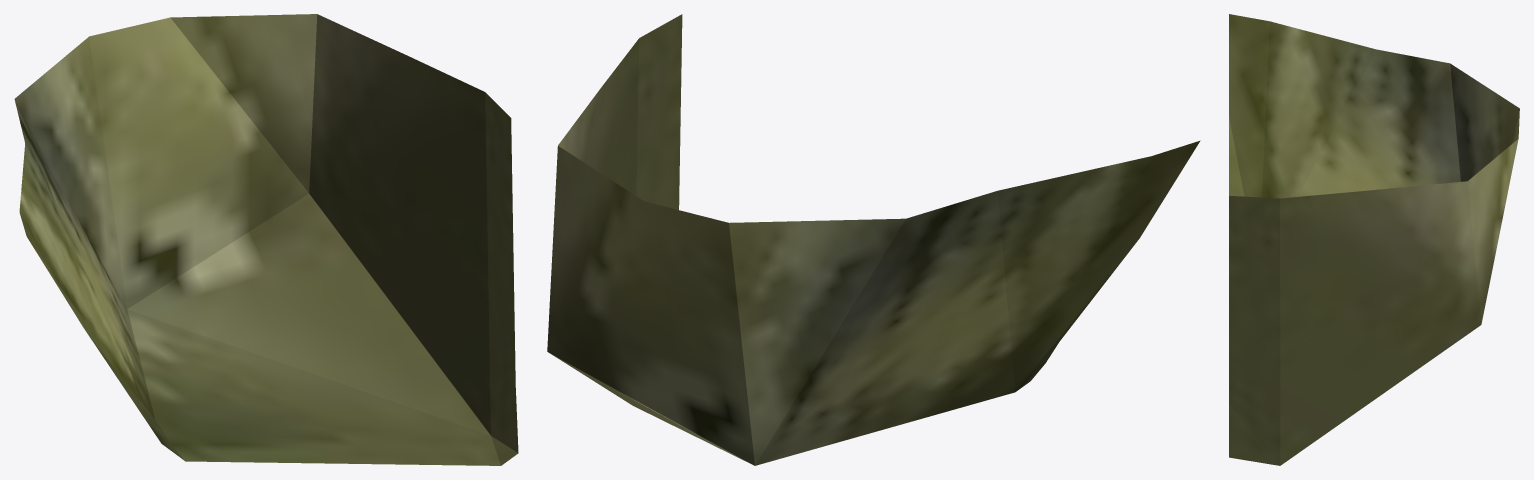
3 renders of one model, left to right at view 1: azimuth 30°, elevation 25°; view 2: azimuth 150°, elevation 25°; view 3: azimuth 270°, elevation 25°, orthographic. The views are drawn at different scales.
Bounding box in the file's own units: 0.3907 × 0.2592 × 0.2573.
Materials: 1 (1 with a texture image).
